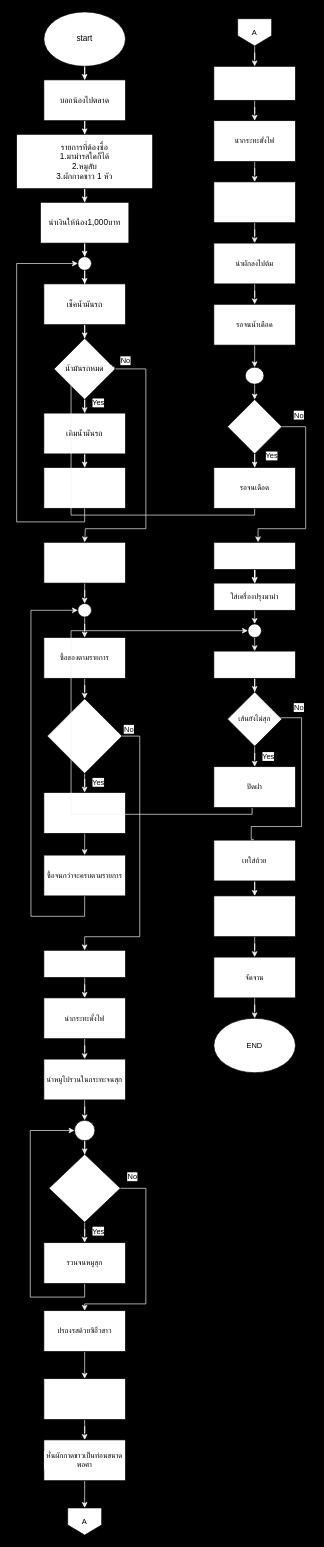
Some shapes in this 324 by 1547 pixel diagram are drawn without their labels. Each missing label, with the centre of its shape:
"กลับบ้าน" goes at point (84, 964).
"ของไม่ครบ ตามรายการ" goes at point (84, 736).
"ขี่ไปตลาด" goes at point (84, 562).
"จ่ายเงิน" goes at point (84, 487).
"ซื้อของที่ยังไม่มีในรายการ" goes at point (84, 812).
"นำขึ้นมาใส่จาน" goes at point (84, 1399).
"น้ำยังไม่เดือด" goes at point (254, 426).
"น้ำหมูมาวางในถ้วยมาม่า" goes at point (254, 916).
"รอจนเส้นสุก" goes at point (254, 664).
"ล้างผักให้สะอาด" goes at point (254, 83).
"หมูไม่สุก" goes at point (84, 1188).
"เทน้ำลงกระทะ 1 ถ้วย" goes at point (254, 202).
"ใส่เส้นมาม่าลงไป" goes at point (254, 556).
